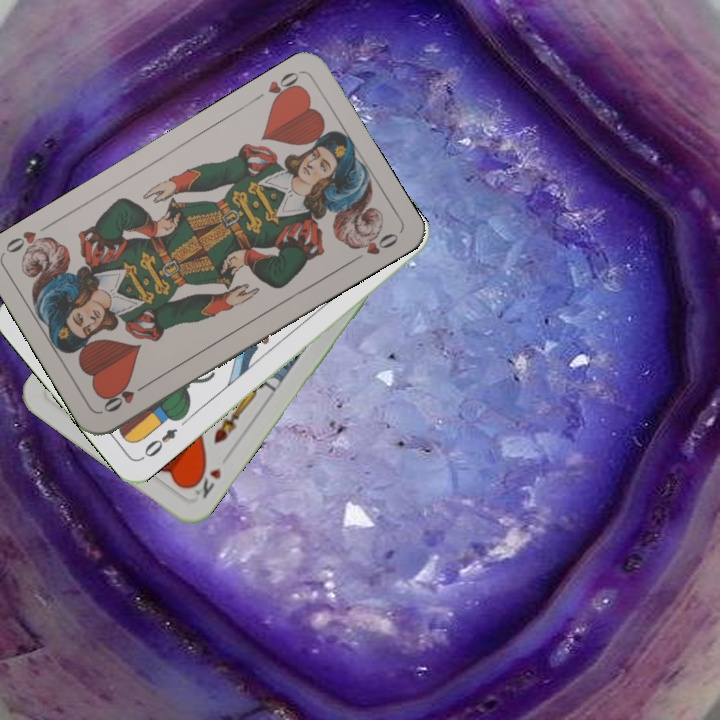EO: (137, 424, 180, 463)
HK: (185, 461, 224, 502)
HO: (99, 378, 152, 415), (263, 67, 305, 108)
